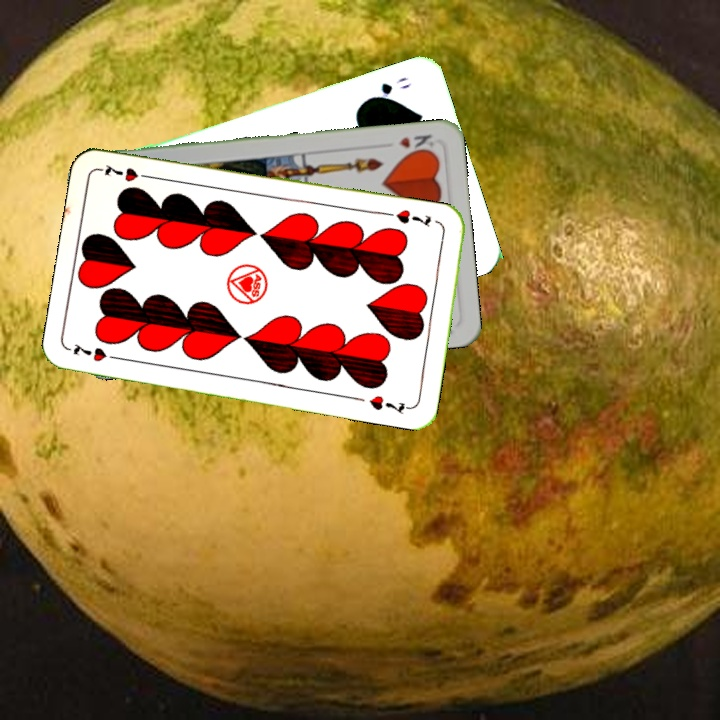GO: (362, 73, 414, 104)
H7: (69, 339, 125, 364), (383, 205, 434, 230)
HK: (395, 130, 437, 157)
